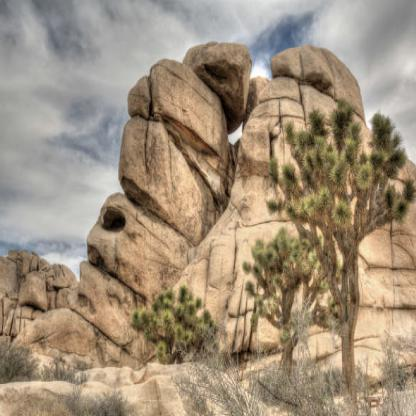Sedimentary_Sandstone: (83, 193, 196, 298), (150, 55, 228, 176), (255, 38, 365, 104), (16, 260, 53, 314)
